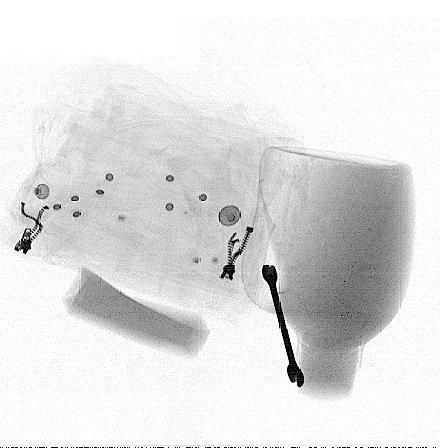Wrench: (260, 263, 307, 391)
